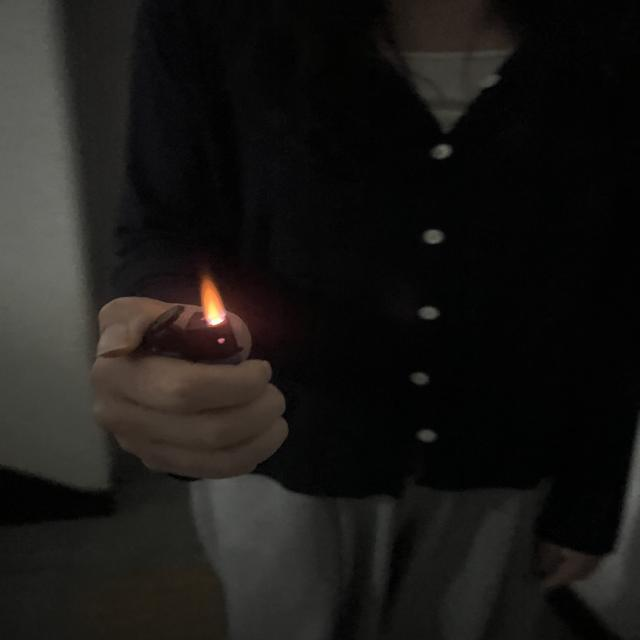fire: (196, 276, 230, 328)
